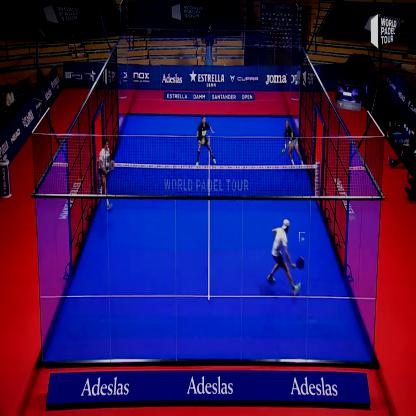ball: (299, 232, 306, 243)
